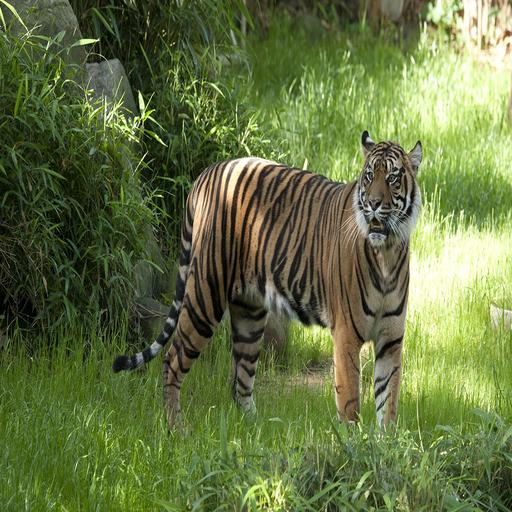Tiger: (104, 128, 436, 470)
